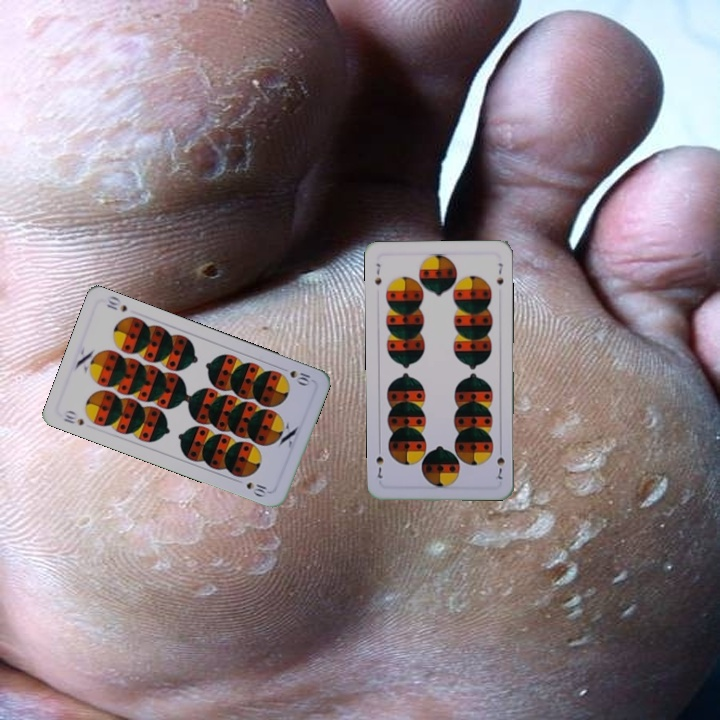S10: (276, 363, 314, 389), (60, 406, 86, 428)
S7: (493, 443, 507, 482), (370, 259, 384, 287)
